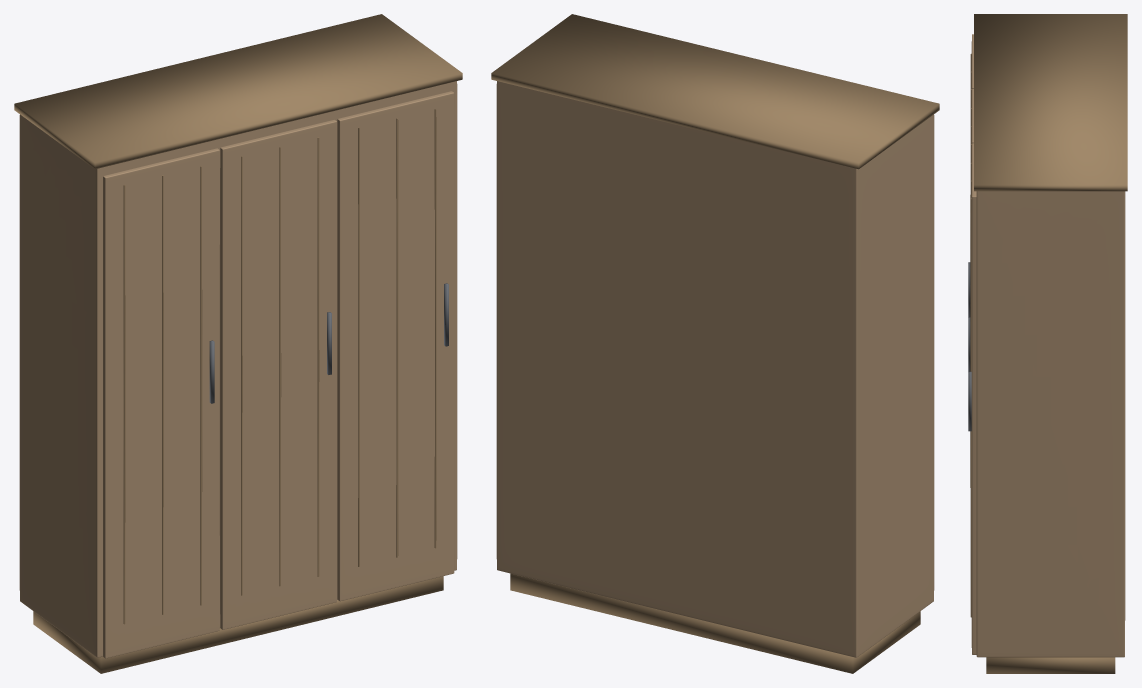
File: wardrobe.glb
3 renders of one model, left to right at view 1: azimuth 30°, elevation 25°; view 2: azimuth 150°, elevation 25°; view 3: azimuth 270°, elevation 25°, orthographic. The views are drawn at different scales.
Parts seen in each view (by area): view 1: wddoor_2, wddoor_1, wddoor_0, wdbody, wdtop, wdplinth, wdpanel_0_0, wdpanel_1_2, wdpanel_2_1, wdpanel_0_2, wdpanel_2_2, wdpanel_1_1 (+3 smaller); view 2: wdbody, wdtop, wdplinth; view 3: wdbody, wdtop, wddoor_2, wdplinth, wdpanel_2_2.
Boxes of the visible parts, <box> form: wddoor_2: <box>337,91,454,601</box>; wddoor_1: <box>220,119,336,629</box>; wddoor_0: <box>103,148,219,658</box>; wdbody: <box>19,81,457,657</box>; wdtop: <box>14,14,462,169</box>; wdplinth: <box>33,576,443,673</box>; wdpanel_0_0: <box>123,185,125,624</box>; wdpanel_1_2: <box>317,137,319,576</box>; wdpanel_2_1: <box>396,118,398,557</box>; wdpanel_0_2: <box>200,166,202,605</box>; wdpanel_2_2: <box>434,109,436,548</box>; wdpanel_1_1: <box>279,147,281,586</box>; wdbody: <box>496,81,934,657</box>; wdtop: <box>491,14,939,169</box>; wdplinth: <box>510,573,920,673</box>; wdbody: <box>976,191,1125,657</box>; wdtop: <box>974,14,1127,191</box>; wddoor_2: <box>971,143,976,654</box>; wdplinth: <box>986,657,1115,673</box>; wdpanel_2_2: <box>970,198,971,617</box>.
Size of the model in its own units: 1.63 by 2.2 by 0.643.
